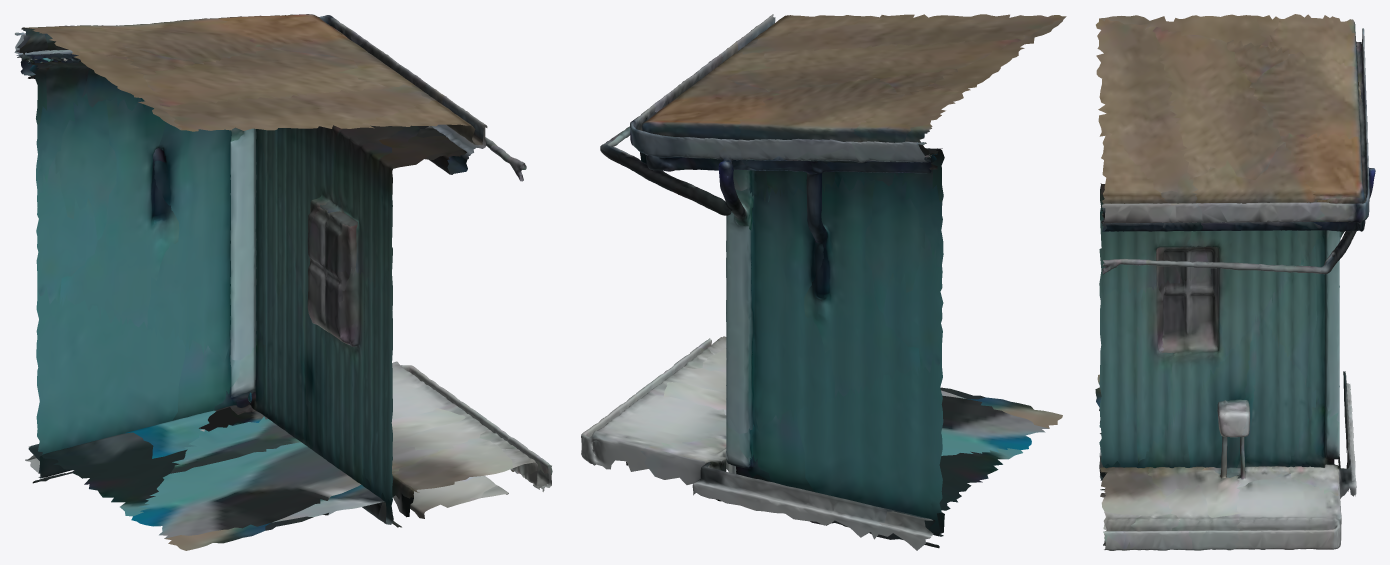
3 renders of one model, left to right at view 1: azimuth 30°, elevation 25°; view 2: azimuth 150°, elevation 25°; view 3: azimuth 270°, elevation 25°, orthographic. The views are drawn at different scales.
Visible parts, largest first — view 1: corner2; view 2: corner2; view 3: corner2.
Part boxes in pixels (x1,y1,x2,y2): corner2: (14, 14, 552, 550); corner2: (581, 14, 1066, 550); corner2: (1095, 14, 1375, 550).
Bounding box in the file's own units: 0.9521 × 1.08 × 0.7135.
Materials: 1 (1 with a texture image).
